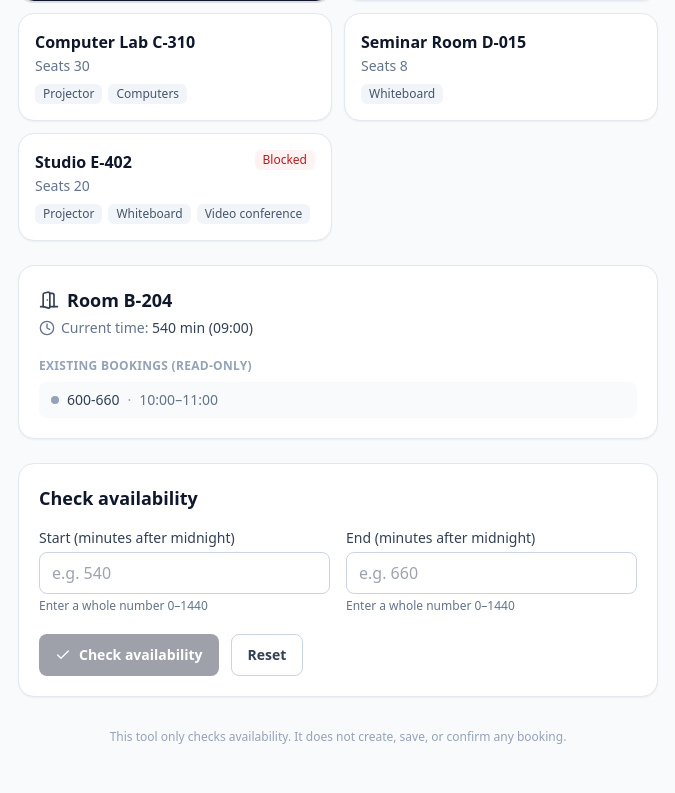
Assignment 3 behavior in the multi-room UI › 660-720 is AVAILABLE (touching a booking is allowed)
(page scrolled)
Type "660" into the number field labelled "Start (minutes after midnight)" at (184, 573), box [39,552,330,594]
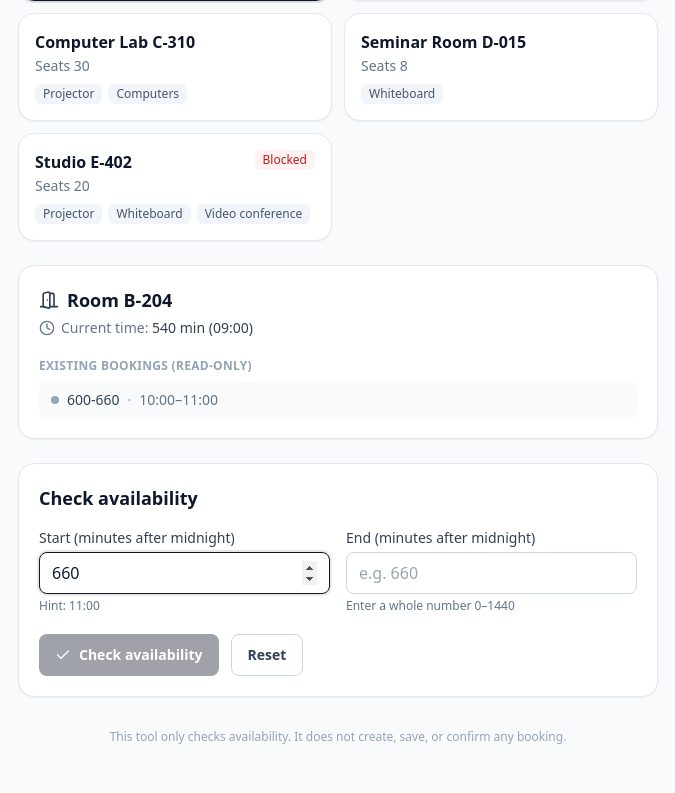
Type "720" into the number field labelled "End (minutes after midnight)" at (492, 573), box [346,552,637,594]
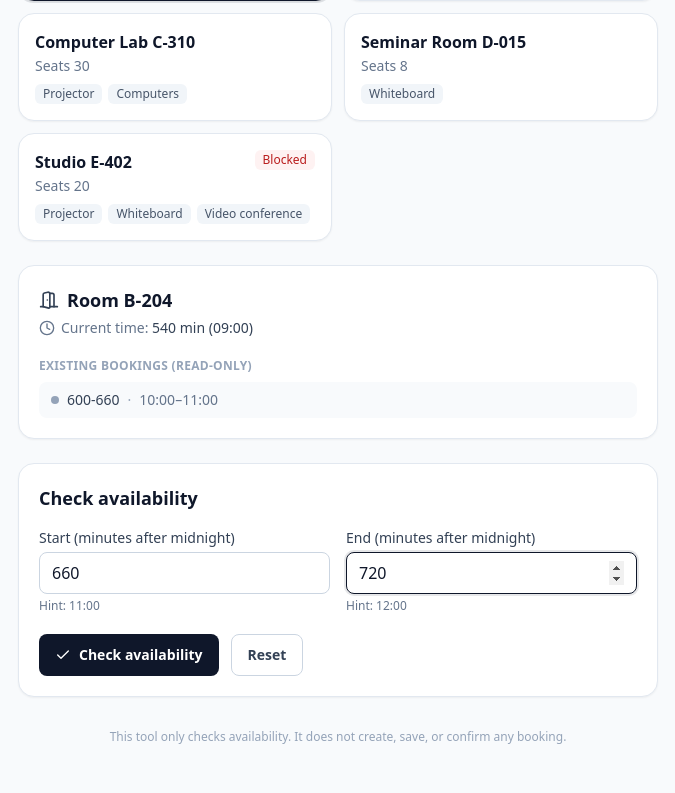
Click the button "Check availability" at (129, 655), box [39,634,218,676]
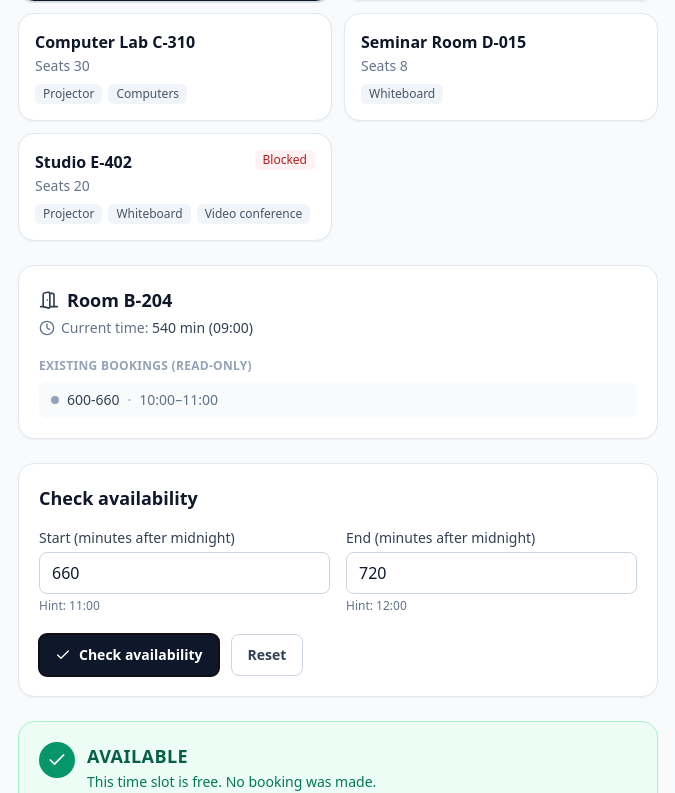
Now the text "AVAILABLE" is shown, box [87,744,188,768]
